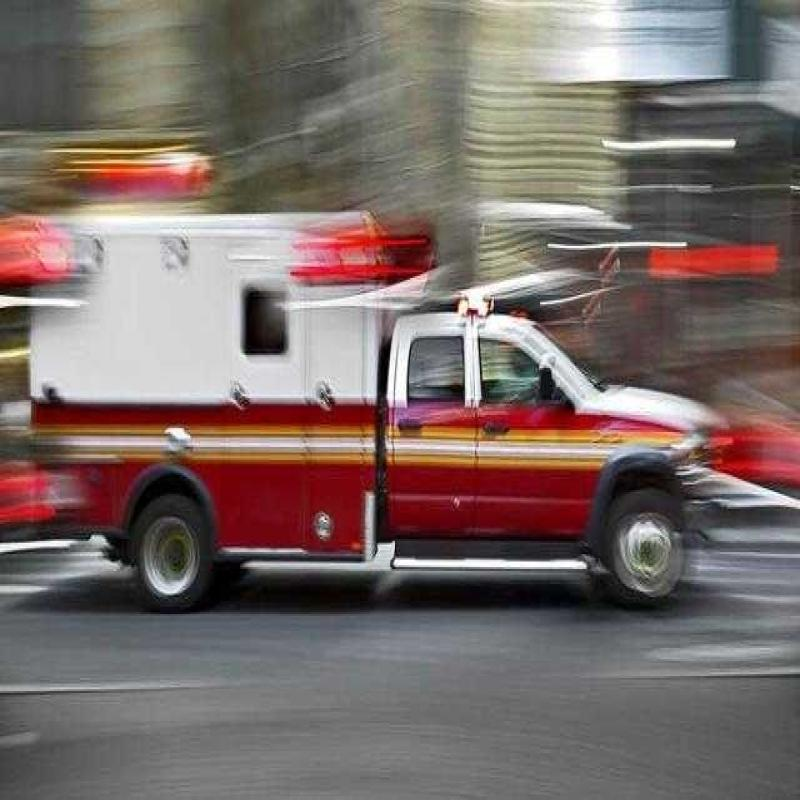AmbulanceSiren: (276, 192, 458, 308)
